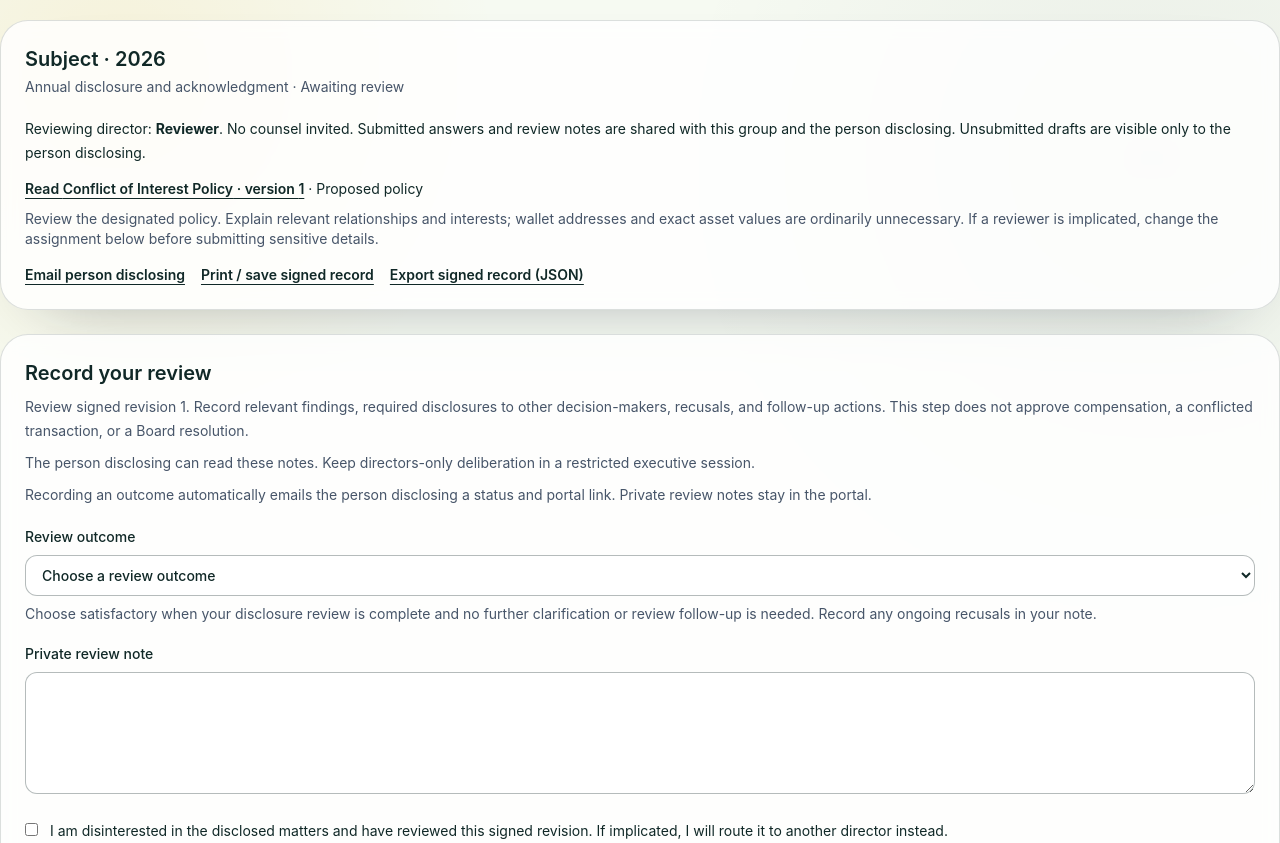
Test: disclosure review outcomes › puts a rejected submission error by the form, focuses it, and preserves the entered review
Select "Review complete — satisfactory" in the dropdown labelled "Review outcome" at (640, 576), box 25,555 -> 1255,596
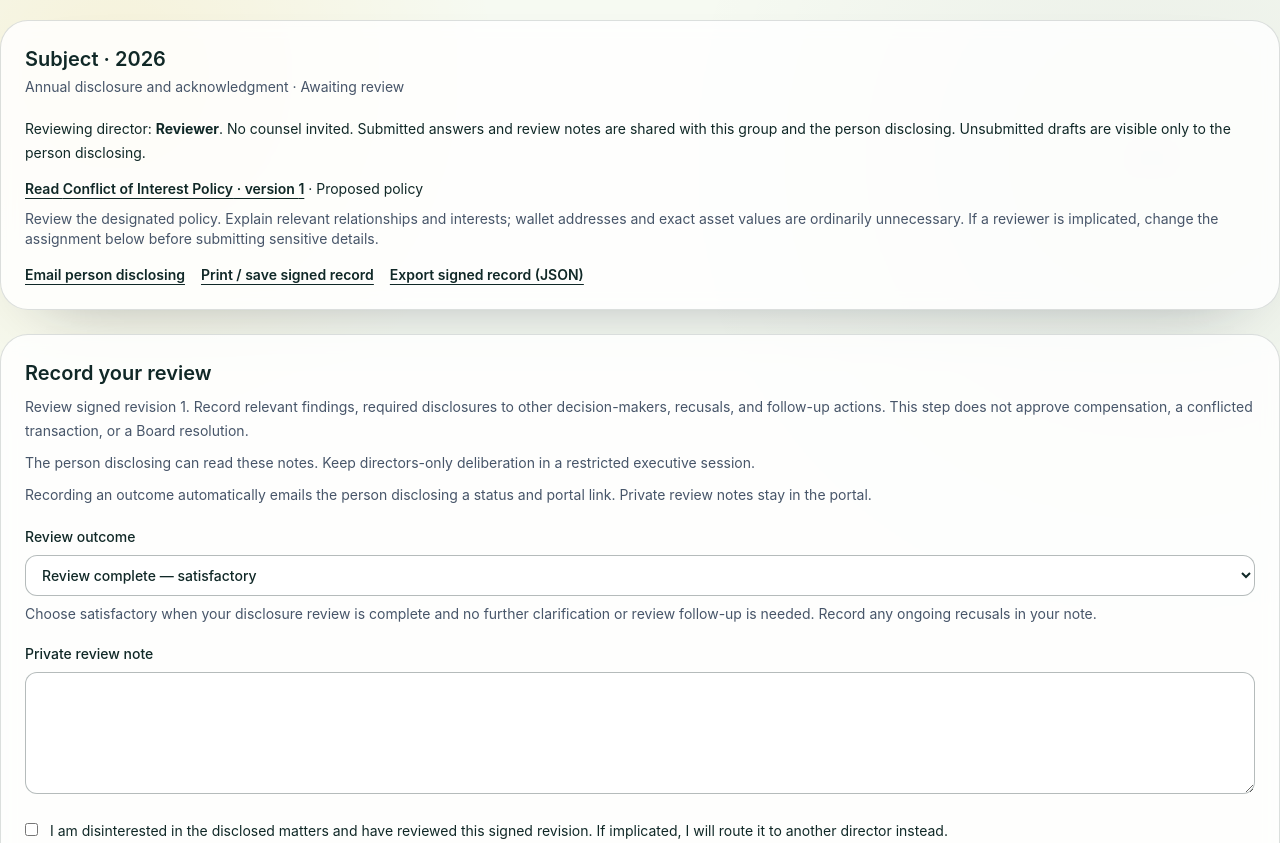
Type "Preserve this finding." into the text box labelled "Private review note" at (640, 733), box 25,672 -> 1255,794
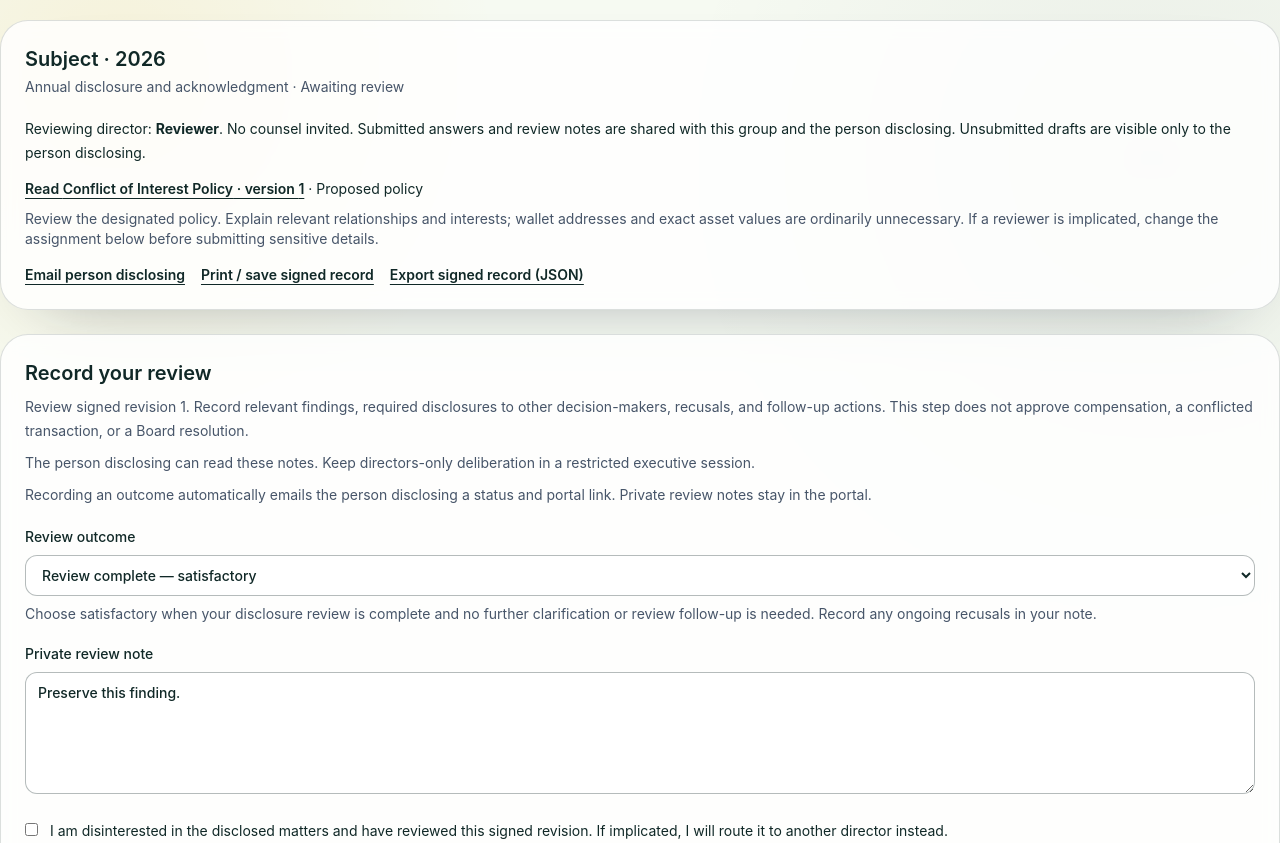
Click the checkbox labelled "I am disinterested" at (32, 830), box 25,823 -> 38,836
(page scrolled)
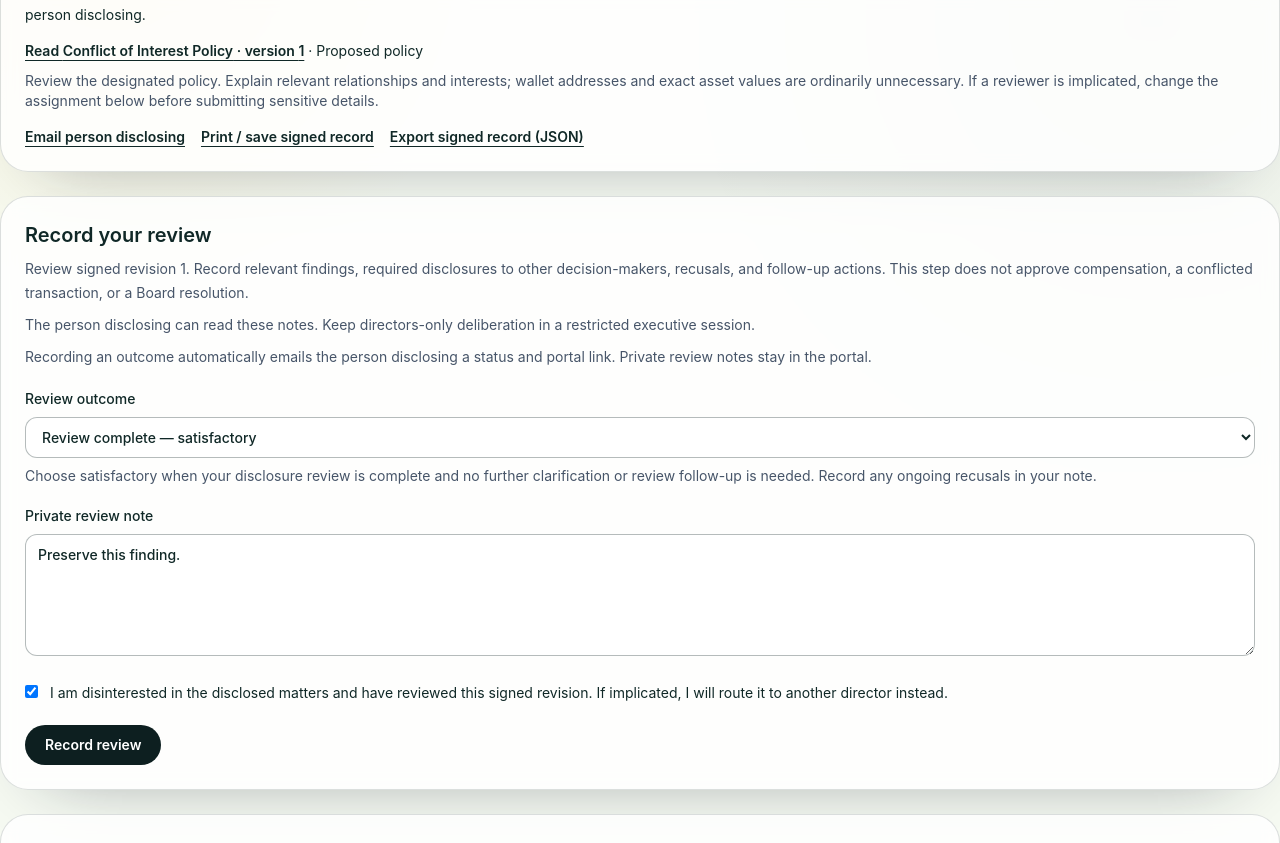
Click the button "Record review" at (93, 745), box 25,725 -> 161,765
(page scrolled)
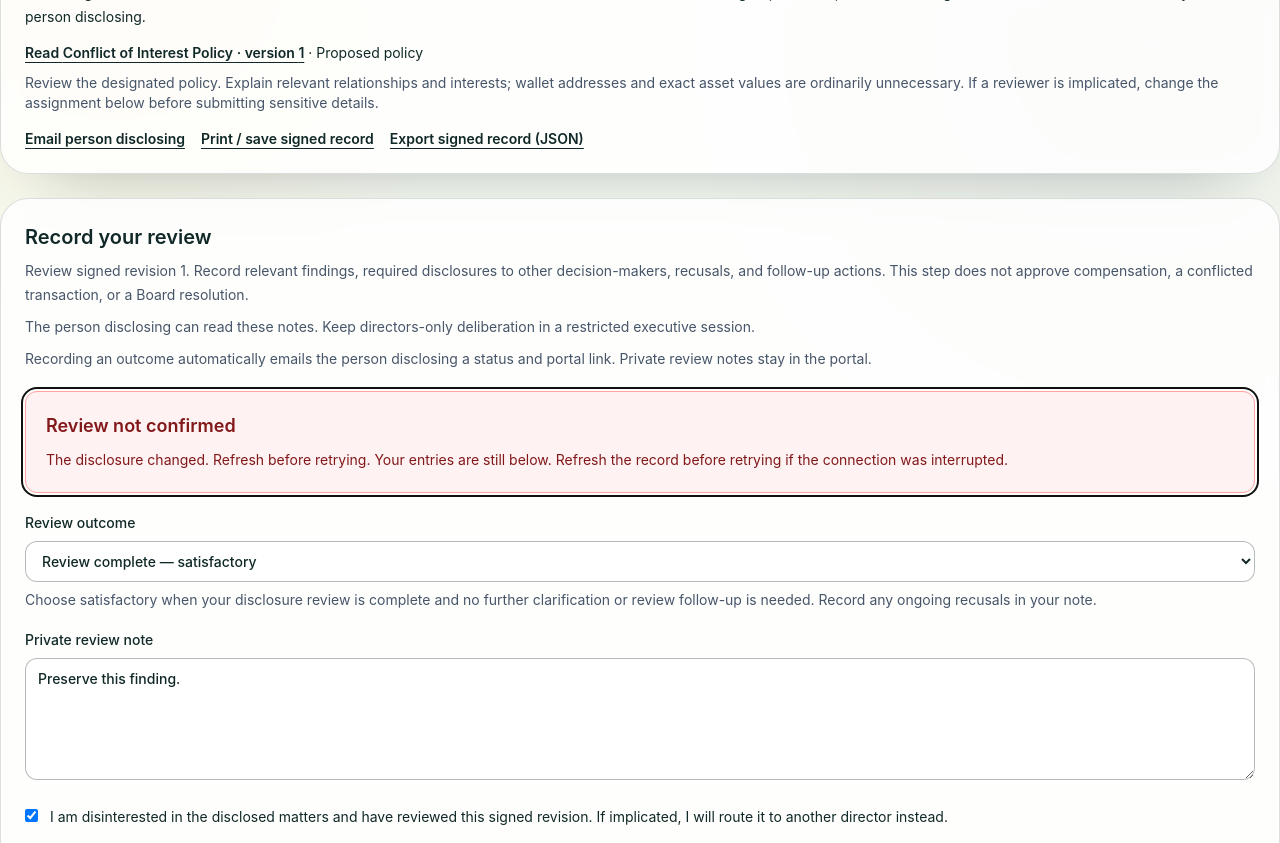
expect the message shows "Review not confirmed": met, box 46,415 -> 236,436
